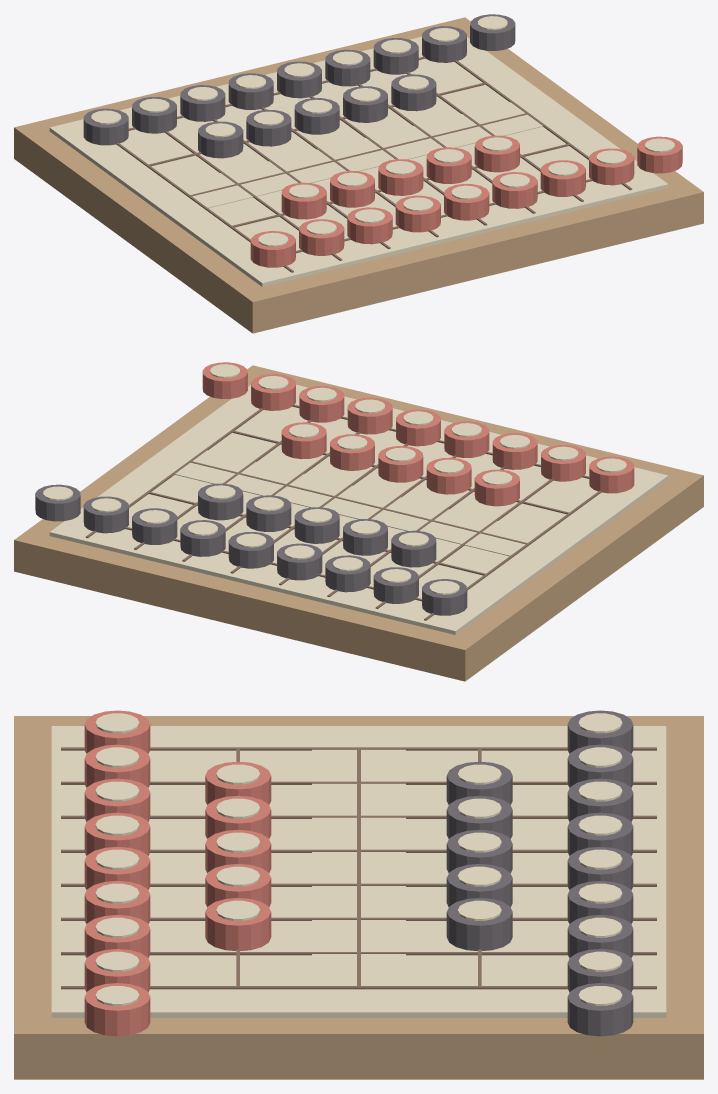
The model's file is item_95_chess_set.glb.
3 renders of one model, top to bottom at view 1: azimuth 30°, elevation 25°; view 2: azimuth 150°, elevation 25°; view 3: azimuth 270°, elevation 25°, orthographic. The views are drawn at different scales.
Parts seen in each view (by area): view 1: I95_Board, I95_Face, I95_River, I95_Pc-18, I95_Pc10, I95_Pp11, I95_Pp-10, I95_Pc18, I95_Pp10, I95_Pp-14, I95_Pp12, I95_Pc-13 (+23 smaller); view 2: I95_Board, I95_Face, I95_River, I95_Pc18, I95_Pp-11, I95_Pc-10, I95_Pp10, I95_Pc-18, I95_Pp-10, I95_Pp14, I95_Pp-12, I95_Pc13 (+23 smaller); view 3: I95_Face, I95_Board, I95_River, I95_Pc18, I95_Pc-18, I95_Pp14, I95_Pp-14, I95_V7, I95_V0, I95_V6, I95_Pp11, I95_Pp13 (+56 smaller).
Boxes of the visible parts, left/top/right/bottom form: I95_Board: left=14, top=17, right=703, bottom=333; I95_Face: left=49, top=36, right=668, bottom=286; I95_River: left=175, top=102, right=543, bottom=208; I95_Pc-18: left=637, top=136, right=682, bottom=173; I95_Pc10: left=83, top=108, right=128, bottom=145; I95_Pp11: left=246, top=109, right=291, bottom=146; I95_Pp-10: left=281, top=182, right=326, bottom=219; I95_Pc18: left=470, top=14, right=515, bottom=50; I95_Pp10: left=198, top=121, right=243, bottom=158; I95_Pp-14: left=474, top=135, right=519, bottom=172; I95_Pp12: left=294, top=98, right=339, bottom=134; I95_Pc-13: left=395, top=195, right=440, bottom=232; I95_Board: left=14, top=365, right=703, bottom=681; I95_Face: left=49, top=384, right=668, bottom=634; I95_River: left=174, top=450, right=542, bottom=556; I95_Pc18: left=35, top=484, right=80, bottom=521; I95_Pp-11: left=426, top=457, right=471, bottom=494; I95_Pc-10: left=589, top=456, right=634, bottom=493; I95_Pp10: left=391, top=530, right=436, bottom=567; I95_Pc-18: left=202, top=362, right=247, bottom=398; I95_Pp-10: left=474, top=469, right=519, bottom=506; I95_Pp14: left=198, top=483, right=243, bottom=520; I95_Pp-12: left=378, top=446, right=423, bottom=482; I95_Pc13: left=277, top=543, right=322, bottom=580; I95_Face: left=51, top=726, right=666, bottom=1017; I95_Board: left=14, top=716, right=703, bottom=1079; I95_River: left=312, top=749, right=405, bottom=985; I95_Pc18: left=567, top=983, right=633, bottom=1036; I95_Pc-18: left=84, top=983, right=150, bottom=1036; I95_Pp14: left=446, top=898, right=512, bottom=950; I95_Pp-14: left=205, top=898, right=271, bottom=950; I95_V7: left=61, top=986, right=656, bottom=989; I95_V0: left=61, top=747, right=656, bottom=750; I95_V6: left=61, top=952, right=656, bottom=955; I95_Pp11: left=446, top=795, right=512, bottom=838; I95_Pp13: left=446, top=864, right=512, bottom=907.
Bounding box in the file's own units: 0.2461 × 0.0277 × 0.22.
